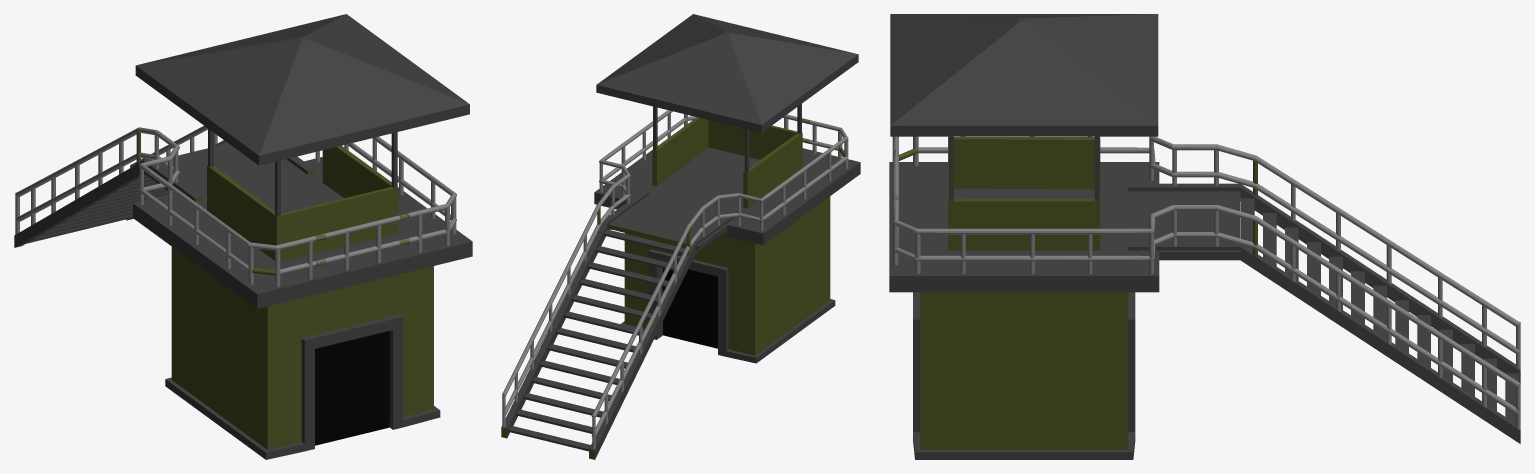
Rendered from Watchtower.fbx.
3 renders of one model, left to right at view 1: azimuth 30°, elevation 25°; view 2: azimuth 150°, elevation 25°; view 3: azimuth 270°, elevation 25°, orthographic. The views are drawn at different scales.
Visible parts, largest first — view 1: Cube; view 2: Cube; view 3: Cube.
Boxes of the visible parts, box(x1,y1,x2,y2) form: Cube: box(14, 14, 472, 459); Cube: box(501, 14, 860, 459); Cube: box(889, 14, 1520, 459).
Bounding box in the file's own units: 1555 × 2502 × 3637.
